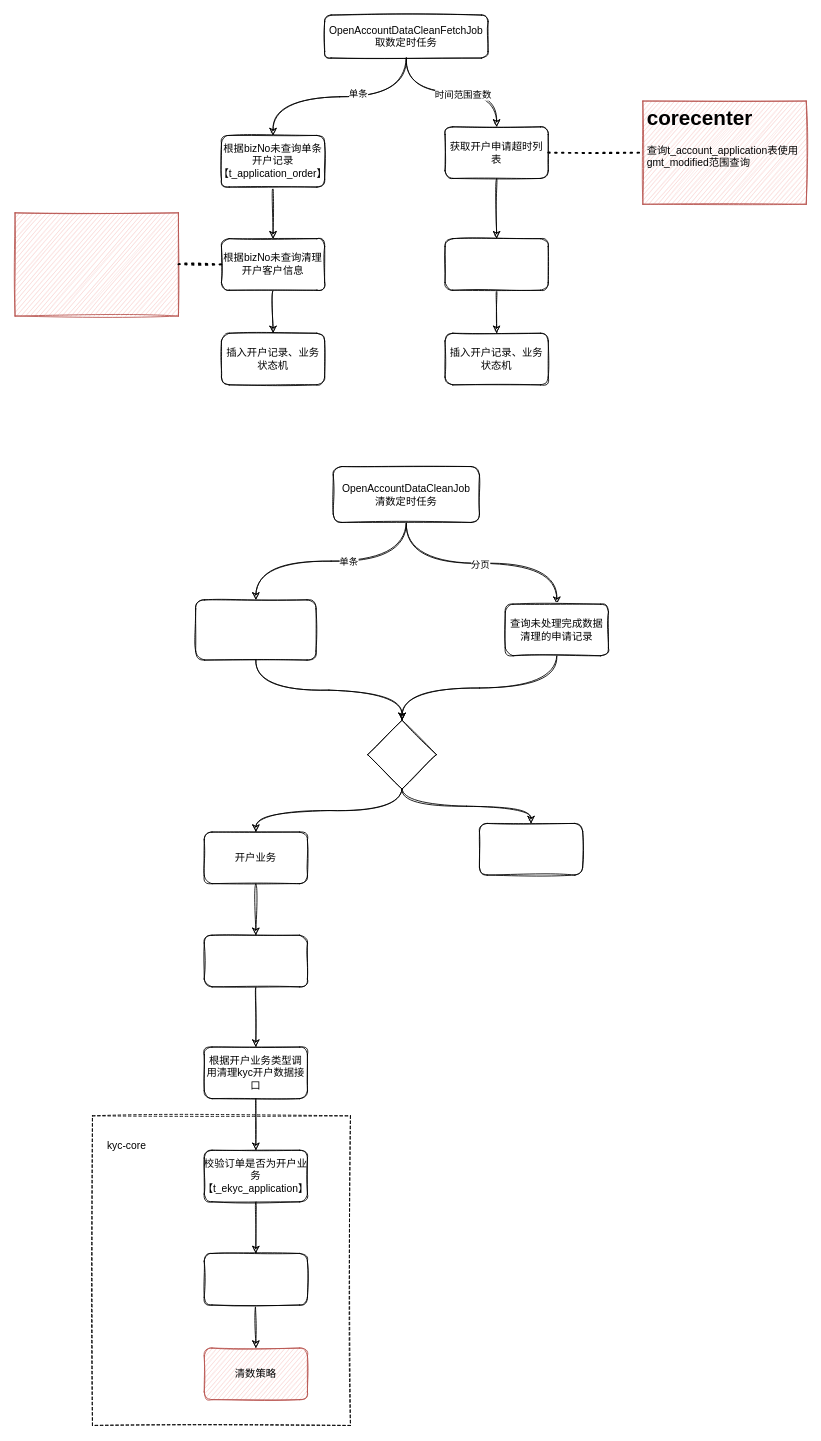
Some shapes in this 821 by 1441 pixel diagram are drawn without their labels. Here are the shapes that lost their labels. From the top down, the centre of each, then its label:
At point (96, 264): "corecenter 现状没有根据时间范围查询 查询条件只有bizNo".
At point (496, 264): "按业务单号查询查询贷款/开户记录【t_application_order】".
At point (255, 629): "根据业务流水号【bizNo】查找贷款开户记录【t_application_order】".
At point (531, 849): "贷款业务".
At point (255, 960): "根据bizNo查询清理开户客户信息".
At point (255, 1279): "校验用户是否为访客【t_customer_account】".
